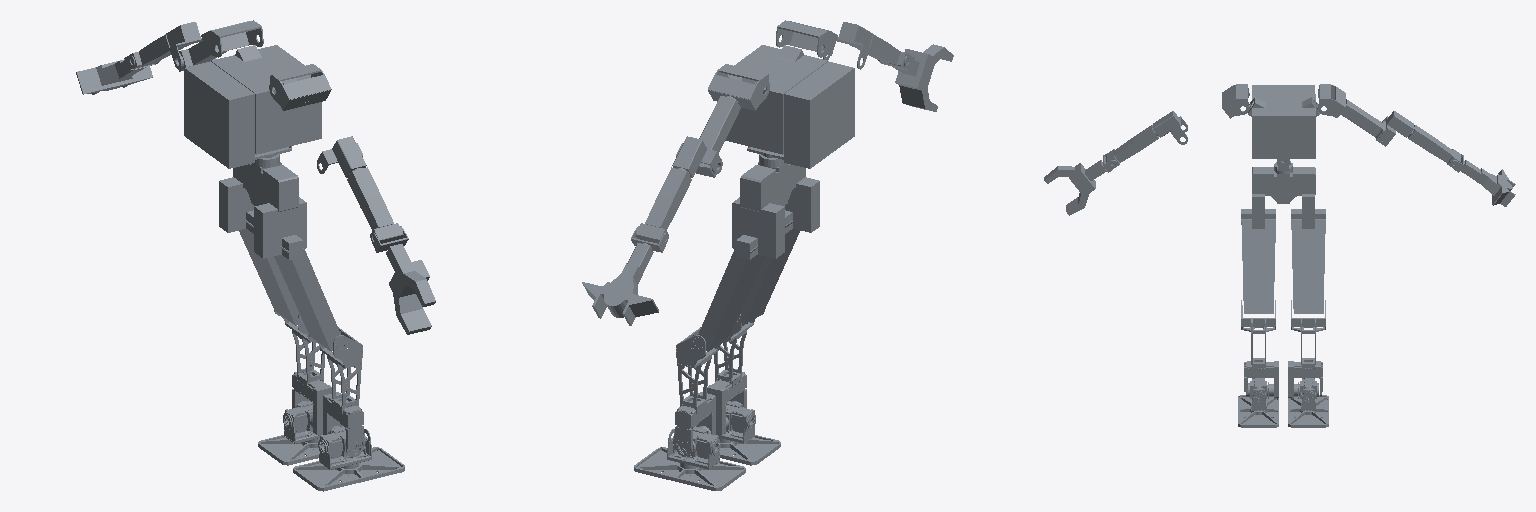
--- Render facts (derived) ---
The picture shows the robot from 3 angles, left to right: view 1: azimuth 30°, elevation 25°; view 2: azimuth 150°, elevation 25°; view 3: azimuth 270°, elevation 25°; orthographic projection.
Robot: dyros_jet_robot — 29 links, 28 joints (28 revolute); root link base_link; default pose: all joints at 0 but 2 set to mid-range because 0 is outside their limits (L_ShoulderRoll = -1.15, R_ShoulderRoll = 1.15).
Links seen in each view (by area): view 1: WaistYaw_Link, R_KneePitch_Link, R_AnkleRoll_Link, R_HipPitch_Link, R_HandYaw_Link, base_link, L_KneePitch_Link, R_HipYaw_Link, R_ShoulderRoll_Link, R_WristYaw_Link, L_HipPitch_Link, L_HandYaw_Link (+9 smaller); view 2: WaistYaw_Link, L_KneePitch_Link, L_AnkleRoll_Link, L_HipPitch_Link, L_HandYaw_Link, base_link, R_KneePitch_Link, L_HipYaw_Link, R_HandYaw_Link, L_WristYaw_Link, L_ShoulderRoll_Link, R_HipPitch_Link (+9 smaller); view 3: WaistYaw_Link, L_HipPitch_Link, R_HipPitch_Link, base_link, R_KneePitch_Link, L_KneePitch_Link, R_HandYaw_Link, R_AnkleRoll_Link, L_AnkleRoll_Link, L_HandYaw_Link, L_WristYaw_Link, R_WristYaw_Link (+5 smaller).
Boxes of the visible links, box(x1,y1,x2,y2) form: WaistYaw_Link: box(184, 45, 321, 168); R_KneePitch_Link: box(309, 327, 363, 456); R_AnkleRoll_Link: box(293, 429, 404, 491); R_HipPitch_Link: box(274, 246, 340, 351); R_HandYaw_Link: box(386, 244, 435, 334); base_link: box(233, 154, 298, 211); L_KneePitch_Link: box(274, 310, 331, 435); R_HipYaw_Link: box(254, 197, 306, 258); R_ShoulderRoll_Link: box(269, 64, 331, 110); R_WristYaw_Link: box(347, 167, 403, 243); L_HipPitch_Link: box(239, 220, 298, 325); L_HandYaw_Link: box(76, 59, 152, 94); WaistYaw_Link: box(725, 45, 854, 168); L_KneePitch_Link: box(675, 327, 729, 456); L_AnkleRoll_Link: box(634, 429, 745, 490); L_HipPitch_Link: box(698, 246, 764, 351); L_HandYaw_Link: box(582, 243, 658, 325); base_link: box(740, 154, 805, 211); R_KneePitch_Link: box(707, 311, 764, 435); L_HipYaw_Link: box(732, 197, 784, 258); R_HandYaw_Link: box(893, 44, 953, 111); L_WristYaw_Link: box(636, 167, 691, 243); L_ShoulderRoll_Link: box(708, 64, 769, 110); R_HipPitch_Link: box(740, 221, 800, 325); WaistYaw_Link: box(1248, 85, 1319, 164); L_HipPitch_Link: box(1291, 219, 1325, 313); R_HipPitch_Link: box(1241, 219, 1275, 313); base_link: box(1252, 162, 1315, 203); R_KneePitch_Link: box(1241, 300, 1278, 398); L_KneePitch_Link: box(1288, 300, 1325, 398); R_HandYaw_Link: box(1044, 160, 1106, 215); R_AnkleRoll_Link: box(1238, 392, 1278, 427); L_AnkleRoll_Link: box(1288, 392, 1328, 427); L_HandYaw_Link: box(1461, 160, 1515, 206); L_WristYaw_Link: box(1408, 125, 1460, 166); R_WristYaw_Link: box(1106, 125, 1158, 165).
Size in the robot's own frame: 0.5785 by 1.99 by 1.39 metres.
Meshes: 25 distinct files referenced, 26 mesh visuals loaded (22 binary STL); not drawn: 3 (reference not matched to a file when rendering).

URDF robot description (dyros_jet_robot):
<robot name="dyros_jet_robot">
  <link name="base_link">
    <inertial>
      <origin xyz="0 0 0.08027" rpy="0 0 0" />
      <mass value="3.90994" />
      <inertia
        ixx="0.02724195938"
        ixy="0"
        ixz="0"
        iyy="0.00634115870"
        iyz="0"
        izz="0.02399190431" />
    </inertial>
    <visual>
      <origin
        xyz="0 0 0"
        rpy="0 0 0" />
      <geometry>
        <mesh filename="package://dyros_jet_description/meshes/base_link.stl" />
      </geometry>
      <material
        name="">
        <color rgba="0.59216 0.61961 0.65098 1" />
      </material>
    </visual>
    <collision>
      <origin
        xyz="0 0 0"
        rpy="0 0 0" />
      <geometry>
        <mesh
          filename="package://dyros_jet_description/meshes/base_link.stl" />
      </geometry> 
    </collision>
  </link>
  <link name="L_HipYaw_Link">
    <inertial>
      <origin
        xyz="-0.02955 0 0.06943"
        rpy="0 0 0" />
      <mass value="1.54216" />
      <inertia
        ixx="0.00412070145"
        ixy="0"
        ixz="0.00089593414"
        iyy="0.00664372362"
        iyz="0"
        izz="0.00338413515" />
    </inertial>
    <visual>
      <origin
        xyz="0 0 0"
        rpy="0 0 0" />
      <geometry>
        <mesh
          filename="package://dyros_jet_description/meshes/hip_yaw.stl" />
      </geometry>
      <material
        name="">
        <color
          rgba="0.59216 0.61961 0.65098 1" />
      </material>
    </visual>
    <collision>
      <origin
        xyz="0 0 0"
        rpy="0 0 0" />
      <geometry>
        <mesh
          filename="package://dyros_jet_description/meshes/hip_yaw.stl" />
      </geometry>
    </collision>
  </link>
  <joint
    name="L_HipYaw"
    type="revolute">
    <origin
      xyz="0 0.105 -0.11190"
      rpy="0 0 0" />
    <parent
      link="base_link" />
    <child
      link="L_HipYaw_Link" />
    <axis
      xyz="0 0 -1" />
    <limit
      effort="30"
      velocity="1" lower="-3.14" upper="3.14" />
  </joint>
  <link
    name="L_HipRoll_Link">
    <inertial>
      <origin
        xyz="0.00513 -0.00119 0"
        rpy="0 0 0" />
      <mass
        value="1.16907" />
      <inertia
        ixx="0.00180677428"
        ixy="0.00000973989"
        ixz="0"
        iyy="0.00087972680"
        iyz="0"
        izz="0.00199196267" />
    </inertial>
    <visual>
      <origin
        xyz="0 0 0"
        rpy="0 0 0" />
      <geometry>
        <mesh
          filename="package://dyros_jet_description/meshes/hip_roll.stl" />
      </geometry>
      <material
        name="">
        <color
          rgba="0.59216 0.61961 0.65098 1" />
      </material>
    </visual>
    <collision>
      <origin
        xyz="0 0 0"
        rpy="0 0 0" />
      <geometry>
        <mesh
          filename="package://dyros_jet_description/meshes/hip_roll.stl" />
      </geometry>
    </collision>
  </link>
  <joint
    name="L_HipRoll"
    type="revolute">
    <origin
      xyz="0 0 0"
      rpy="0 0 0" />
    <parent
      link="L_HipYaw_Link" />
    <child
      link="L_HipRoll_Link" />
    <axis
      xyz="1 0 0" />
    <limit
      effort="30"
      velocity="1" lower="-3.14" upper="3.14" />
  </joint>
  <link
    name="L_HipPitch_Link">
    <inertial>
      <origin
        xyz="0.12203 0.00306 -0.23316"
        rpy="0 0 0" />
      <mass
        value="3.28269" />
      <inertia
        ixx="0.04026422334"
        ixy="-0.00122469549"
        ixz="-0.01390323874"
        iyy="0.04329246922"
        iyz="0.00234011199"
        izz="0.01768138410" />
    </inertial>
    <visual>
      <origin
        xyz="0 0 0"
        rpy="0 0 0" />
      <geometry>
        <mesh
          filename="package://dyros_jet_description/meshes/hip_pitch.stl" />
      </geometry>
      <material
        name="">
        <color
          rgba="0.59216 0.61961 0.65098 1" />
      </material>
    </visual>
    <collision>
      <origin
        xyz="0 0 0"
        rpy="0 0 0" />
      <geometry>
        <mesh
          filename="package://dyros_jet_description/meshes/hip_pitch.stl" />
      </geometry>
    </collision>
  </link>
  <joint
    name="L_HipPitch"
    type="revolute">
    <origin
      xyz="0 0 0"
      rpy="0 0 0" />
    <parent
      link="L_HipRoll_Link" />
    <child
      link="L_HipPitch_Link" />
    <axis
      xyz="0 1 0" />
    <limit
      effort="30"
      velocity="1" lower="-3.14" upper="3.14" />
  </joint>
  <link
    name="L_KneePitch_Link">
    <inertial>
      <origin
        xyz="0.05276 -0.01856 -0.22635"
        rpy="0 0 0" />
      <mass
        value="2.04524" />
      <inertia
        ixx="0.03535528788"
        ixy="-0.00087858758"
        ixz="-0.00310465960"
        iyy="0.03128221988"
        iyz="0.00677319603"
        izz="0.00677705818" />
    </inertial>
    <visual>
      <origin
        xyz="0 0 0"
        rpy="0 0 0" />
      <geometry>
        <mesh
          filename="package://dyros_jet_description/meshes/left_shin.stl" />
      </geometry>
      <material
        name="">
        <color
          rgba="0.59216 0.61961 0.65098 1" />
      </material>
    </visual>
    <collision>
      <origin
        xyz="0 0 0"
        rpy="0 0 0" />
      <geometry>
        <mesh
          filename="package://dyros_jet_description/meshes/left_shin.stl" />
      </geometry>
    </collision>
  </link>
  <joint
    name="L_KneePitch"
    type="revolute">
    <origin
      xyz="0.1515 0 -0.339"
      rpy="0 0 0" />
    <parent
      link="L_HipPitch_Link" />
    <child
      link="L_KneePitch_Link" />
    <axis
      xyz="0 1 0" />
    <limit
      effort="30"
      velocity="1" lower="-3.14" upper="3.14" />
  </joint>
  <link
    name="L_AnklePitch_Link">
    <inertial>
      <origin
        xyz="-0.01035 0.00568 0"
        rpy="0 0 0" />
      <mass
        value="1.18450" />
      <inertia
        ixx="0.00091081511"
        ixy="0.00006964019"
        ixz="0"
        iyy="0.00185149782"
        iyz="0"
        izz="0.00206162879" />
    </inertial>
    <visual>
      <origin
        xyz="0 0 0"
        rpy="0 0 0" />
      <geometry>
        <mesh
          filename="package://dyros_jet_description/meshes/left_ankle_pitch.stl" />
      </geometry>
      <material
        name="">
        <color
          rgba="0.59216 0.61961 0.65098 1" />
      </material>
    </visual>
    <collision>
      <origin
        xyz="0 0 0"
        rpy="0 0 0" />
      <geometry>
        <mesh
          filename="package://dyros_jet_description/meshes/left_ankle_pitch.stl" />
      </geometry>
    </collision>
  </link>
  <joint
    name="L_AnklePitch"
    type="revolute">
    <origin
      xyz="0.06 0 -0.368"
      rpy="0 0 0" />
    <parent
      link="L_KneePitch_Link" />
    <child
      link="L_AnklePitch_Link" />
    <axis
      xyz="0 1 0" />
    <limit
      effort="30"
      velocity="1" lower="-3.14" upper="3.14" />
  </joint>
  <link
    name="L_AnkleRoll_Link">
    <inertial>
      <origin
        xyz="-0.00989 0 0.07224"
        rpy="0 0 0" />
      <mass
        value="1.42541" />
      <inertia
        ixx="0.00349247764"
        ixy="0"
        ixz="-0.00086859128"
        iyy="0.00816767704"
        iyz="0"
        izz="0.00895530984" />
    </inertial>
    <visual>
      <origin
        xyz="0 0 0"
        rpy="0 0 0" />
      <geometry>
        <mesh
          filename="package://dyros_jet_description/meshes/ankle_roll.stl" />
      </geometry>
      <material
        name="">
        <color
          rgba="0.59216 0.61961 0.65098 1" />
      </material>
    </visual>
    <collision>
      <origin
        xyz="0 0 0"
        rpy="0 0 0" />
      <geometry>
        <mesh
          filename="package://dyros_jet_description/meshes/ankle_roll.stl" />
      </geometry>
    </collision>
  </link>
  <joint
    name="L_AnkleRoll"
    type="revolute">
    <origin
      xyz="0 0 0"
      rpy="0 0 0" />
    <parent
      link="L_AnklePitch_Link" />
    <child
      link="L_AnkleRoll_Link" />
    <axis
      xyz="1 0 0" />
    <limit
      effort="30"
      velocity="1" lower="-3.14" upper="3.14" />
  </joint>
  <link
    name="R_HipYaw_Link">
    <inertial>
      <origin
        xyz="-0.02955 0 0.06943"
        rpy="0 0 0" />
      <mass
        value="1.54216" />
      <inertia
        ixx="0.00412070145"
        ixy="0"
        ixz="0.00089593414"
        iyy="0.00664372362"
        iyz="0"
        izz="0.00338413515" />
    </inertial>
    <visual>
      <origin
        xyz="0 0 0"
        rpy="0 0 0" />
      <geometry>
        <mesh
          filename="package://dyros_jet_description/meshes/hip_yaw.stl" />
      </geometry>
      <material
        name="">
        <color
          rgba="0.59216 0.61961 0.65098 1" />
      </material>
    </visual>
    <collision>
      <origin
        xyz="0 0 0"
        rpy="0 0 0" />
      <geometry>
        <mesh
          filename="package://dyros_jet_description/meshes/hip_yaw.stl" />
      </geometry>
    </collision>
  </link>
  <joint
    name="R_HipYaw"
    type="revolute">
    <origin
      xyz="0 -0.105 -0.11190"
      rpy="0 0 0" />
    <parent
      link="base_link" />
    <child
      link="R_HipYaw_Link" />
    <axis
      xyz="0 0 -1" />
    <limit
      effort="30"
      velocity="1" lower="-3.14" upper="3.14" />
  </joint>
  <link
    name="R_HipRoll_Link">
    <inertial>
      <origin
        xyz="0.00513 0.00119 0"
        rpy="0 0 0" />
      <mass
        value="1.16907" />
      <inertia
        ixx="0.00180677428"
        ixy="-0.00000973989"
        ixz="0"
        iyy="0.00087972680"
        iyz="0"
        izz="0.00199196267" />
    </inertial>
    <visual>
      <origin
        xyz="0 0 0"
        rpy="0 0 0" />
      <geometry>
        <mesh
          filename="package://dyros_jet_description/meshes/hip_roll.stl" />
      </geometry>
      <material
        name="">
        <color
          rgba="0.59216 0.61961 0.65098 1" />
      </material>
    </visual>
    <collision>
      <origin
        xyz="0 0 0"
        rpy="0 0 0" />
      <geometry>
        <mesh
          filename="package://dyros_jet_description/meshes/hip_roll.stl" />
      </geometry>
    </collision>
  </link>
  <joint
    name="R_HipRoll"
    type="revolute">
    <origin
      xyz="0 0 0"
      rpy="0 0 0" />
    <parent
      link="R_HipYaw_Link" />
    <child
      link="R_HipRoll_Link" />
    <axis
      xyz="1 0 0" />
    <limit
      effort="30"
      velocity="1" lower="-3.14" upper="3.14" />
  </joint>
  <link
    name="R_HipPitch_Link">
    <inertial>
      <origin
        xyz="0.11203 -0.00306 -0.23316"
        rpy="0 0 0" />
      <mass
        value="3.28269" />
      <inertia
        ixx="0.04026423334"
        ixy="0.00122469549"
        ixz="-0.01390323874"
        iyy="0.04329246922"
        iyz="-0.00233982906"
        izz="0.01768138410" />
    </inertial>
    <visual>
      <origin
        xyz="0 0 0"
        rpy="0 0 0" />
      <geometry>
        <mesh
          filename="package://dyros_jet_description/meshes/hip_pitch.stl" />
      </geometry>
      <material
        name="">
        <color
          rgba="0.59216 0.61961 0.65098 1" />
      </material>
    </visual>
    <collision>
      <origin
        xyz="0 0 0"
        rpy="0 0 0" />
      <geometry>
        <mesh
          filename="package://dyros_jet_description/meshes/hip_pitch.stl" />
      </geometry>
    </collision>
  </link>
  <joint
    name="R_HipPitch"
    type="revolute">
    <origin
      xyz="0 0 0"
      rpy="0 0 0" />
    <parent
      link="R_HipRoll_Link" />
    <child
      link="R_HipPitch_Link" />
    <axis
      xyz="0 -1 0" />
    <limit
      effort="30"
      velocity="1" lower="-3.14" upper="3.14" />
  </joint>
  <link
    name="R_KneePitch_Link">
    <inertial>
      <origin
        xyz="0.05276 0.01856 -0.22635"
        rpy="0 0 0" />
      <mass
        value="2.04524" />
      <inertia
        ixx="0.03537964069"
        ixy="0.00087727444"
        ixz="-0.00310527519"
        iyy="0.03129299830"
        iyz="-0.00676289825"
        izz="0.00679475749" />
    </inertial>
    <visual>
      <origin
        xyz="0 0 0"
        rpy="0 0 0" />
      <geometry>
        <mesh
          filename="package://dyros_jet_description/meshes/right_shin.stl" />
      </geometry>
      <material
        name="">
        <color
          rgba="0.59216 0.61961 0.65098 1" />
      </material>
    </visual>
    <collision>
      <origin
        xyz="0 0 0"
        rpy="0 0 0" />
      <geometry>
        <mesh
          filename="package://dyros_jet_description/meshes/right_shin.stl" />
      </geometry>
    </collision>
  </link>
  <joint
    name="R_KneePitch"
    type="revolute">
    <origin
      xyz="0.1515 0 -0.339"
      rpy="0 0 0" />
    <parent
      link="R_HipPitch_Link" />
    <child
      link="R_KneePitch_Link" />
    <axis
      xyz="0 -1 0" />
    <limit
      effort="30"
      velocity="1" lower="-3.14" upper="3.14" />
  </joint>
  <link
    name="R_AnklePitch_Link">
    <inertial>
      <origin
        xyz="-0.01035 0.00568 0"
        rpy="0 0 0" />
      <mass
        value="1.18450" />
      <inertia
        ixx="0.00091077271"
        ixy="-0.00006959439"
        ixz="0"
        iyy="0.00185147541"
        iyz="0"
        izz="0.00206164878" />
    </inertial>
    <visual>
      <origin
        xyz="0 0 0"
        rpy="0 0 0" />
      <geometry>
        <mesh
          filename="package://dyros_jet_description/meshes/right_ankle_pitch.stl" />
      </geometry>
      <material
        name="">
        <color
          rgba="0.59216 0.61961 0.65098 1" />
      </material>
    </visual>
    <collision>
      <origin
        xyz="0 0 0"
        rpy="0 0 0" />
      <geometry>
        <mesh
          filename="package://dyros_jet_description/meshes/right_ankle_pitch.stl" />
      </geometry>
    </collision>
  </link>
  <joint
    name="R_AnklePitch"
    type="revolute">
    <origin
      xyz="0.06 0 -0.368"
      rpy="0 0 0" />
    <parent
      link="R_KneePitch_Link" />
    <child
      link="R_AnklePitch_Link" />
    <axis
      xyz="0 -1 0" />
    <limit
      effort="30"
      velocity="1" lower="-3.14" upper="3.14" />
  </joint>
  <link
    name="R_AnkleRoll_Link">
    <inertial>
      <origin
        xyz="-0.00989 0 0.07224"
        rpy="0 0 0" />
      <mass
        value="1.42541" />
      <inertia
        ixx="0.00350322410"
        ixy="0"
        ixz="-0.00090168812"
        iyy="0.00816767704"
        iyz="0"
        izz="0.00894456337" />
    </inertial>
    <visual>
      <origin
        xyz="0 0 0"
        rpy="0 0 0" />
      <geometry>
        <mesh
          filename="package://dyros_jet_description/meshes/ankle_roll.stl" />
      </geometry>
      <material
        name="">
        <color
          rgba="0.59216 0.61961 0.65098 1" />
      </material>
    </visual>
    <collision>
      <origin
        xyz="0 0 0"
        rpy="0 0 0" />
      <geometry>
        <mesh
          filename="package://dyros_jet_description/meshes/ankle_roll.stl" />
      </geometry>
    </collision>
  </link>
  <joint
    name="R_AnkleRoll"
    type="revolute">
    <origin
      xyz="0 0 0"
      rpy="0 0 0" />
    <parent
      link="R_AnklePitch_Link" />
    <child
      link="R_AnkleRoll_Link" />
    <axis
      xyz="1 0 0" />
    <limit
      effort="30"
      velocity="1" lower="-3.14" upper="3.14" />
  </joint>
  <link
    name="WaistPitch_Link">
    <inertial>
      <origin
        xyz="0 0 0.14577"
        rpy="0 0 0" />
      <mass
        value="0.18235" />
      <inertia
        ixx="0.003844"
        ixy="0"
        ixz="0"
        iyy="0.004215"
        iyz="0"
        izz="0.000457" />
    </inertial>
    <visual>
      <origin
        xyz="0 0 0"
        rpy="0 0 0" />
      <geometry>
        <mesh
          filename="package://dyros_jet_description/meshes/WaistPitch_Link.stl" />
      </geometry>
      <material
        name="">
        <color
          rgba="0.59216 0.61961 0.65098 1" />
      </material>
    </visual>
    <collision>
      <origin
        xyz="0 0 0"
        rpy="0 0 0" />
      <geometry>
        <mesh
          filename="package://dyros_jet_description/meshes/WaistPitch_Link.stl" />
      </geometry>
    </collision>
  </link>
  <joint
    name="WaistPitch"
    type="revolute">
    <origin
      xyz="0 0 0"
      rpy="0 0 0" />
    <parent
      link="base_link" />
    <child
      link="WaistPitch_Link" />
    <axis
      xyz="0 0 1" />
    <limit
      effort="30"
      velocity="1" lower="-3.14" upper="3.14" />
  </joint>
  <link
    name="WaistYaw_Link">
    <inertial>
      <origin
        xyz="0.0038 -0.00415 0.11424"
        rpy="0 0 0" />
      <mass
        value="14.09938" />
      <inertia
        ixx="0.262766"
        ixy="0"
        ixz="0"
        iyy="0.242504"
        iyz="0"
        izz="0.109346" />
    </inertial>
    <visual>
      <origin
        xyz="0 0 0"
        rpy="0 0 0" />
      <geometry>
        <mesh
          filename="package://dyros_jet_description/meshes/WaistYaw_Link.stl" />
      </geometry>
      <material
        name="">
        <color
          rgba="0.59216 0.61961 0.65098 1" />
      </material>
    </visual>
    <visual>
      <origin
        xyz="-0.16 0 0.11"
        rpy="0 0 0" />
      <geometry>
        <box size= "0.09 0.265 0.225"/>
      </geometry>
      <material
        name="">
        <color
          rgba="0.59216 0.61961 0.65098 1" />
      </material>
    </visual>
    <collision>
      <origin
        xyz="0 0 0"
        rpy="0 0 0" />
      <geometry>
        <mesh
          filename="package://dyros_jet_description/meshes/WaistYaw_Link.stl" />
      </geometry>
    </collision>
    <collision>
      <origin
        xyz="-0.16 0 0.11"
        rpy="0 0 0" />
      <geometry>
        <box size= "0.09 0.265 0.225"/>
      </geometry>
    </collision>
  </link>
  <joint
    name="WaistYaw"
    type="revolute">
    <origin
      xyz="0 0 0.186"
      rpy="0 0 0" />
    <parent
      link="WaistPitch_Link" />
    <child
      link="WaistYaw_Link" />
    <axis
      xyz="-1 0 0" />
    <limit
      effort="30"
      velocity="1" lower="-3.14" upper="3.14" />
  </joint>
  <link
    name="L_ShoulderPitch_Link">
    <inertial>
      <origin
        xyz="-0.00159 -0.00092 0"
        rpy="0 0 0" />
      <mass
        value="0.92796" />
      <inertia
        ixx="0.000473"
        ixy="0"
        ixz="0"
        iyy="0.0015422"
        iyz="0"
        izz="0.00156" />
    </inertial>
    <visual>
      <origin
        xyz="0 0 0"
        rpy="0 0 0" />
      <geometry>
        <mesh
          filename="package://dyros_jet_description/meshes/L_ShoulderPitch_Link.stl" />
      </geometry>
      <material
        name="">
        <color
          rgba="0.59216 0.61961 0.65098 1" />
      </material>
    </visual>
    <collision>
      <origin
        xyz="0 0 0"
        rpy="0 0 0" />
      <geometry>
        <mesh
          filename="package://dyros_jet_description/meshes/L_ShoulderPitch_Link.stl" />
      </geometry>
    </collision>
  </link>
  <joint
    name="L_ShoulderPitch"
    type="revolute">
    <origin
      xyz="0 0.17 0.239"
      rpy="0.5236 0 -4.6787E-15" />
    <parent
      link="WaistYaw_Link" />
    <child
      link="L_ShoulderPitch_Link" />
    <axis
      xyz="0 1 0" />
    <limit
      effort="30"
      velocity="1" lower="-3.14" upper="3.14" />
  </joint>
  <link
    name="L_ShoulderRoll_Link">
    <inertial>
      <origin
        xyz="0 0.02958 -0.03197"
        rpy="0 0 0" />
      <mass
        value="0.11240" />
      <inertia
        ixx="0.001421"
        ixy="0"
        ixz="0"
        iyy="0.001585"
        iyz="0.000389"
        izz="0.001839" />
    </inertial>
    <visual>
      <origin
        xyz="0 0 0"
        rpy="0 0 0" />
      <geometry>
        <mesh
          filename="package://dyros_jet_description/meshes/L_ShoulderRoll_Link.stl" />
      </geometry>
      <material
        name="">
        <color
          rgba="0.59216 0.61961 0.65098 1" />
      </material>
    </visual>
    <collision>
      <origin
        xyz="0 0 0"
        rpy="0 0 0" />
      <geometry>
        <mesh
          filename="package://dyros_jet_description/meshes/L_ShoulderRoll_Link.stl" />
      </geometry>
    </collision>
  </link>
  <joint
    name="L_ShoulderRoll"
    type="revolute">
    <origin
      xyz="0 0 0"
      rpy="0 0 -7.8886E-31" />
    <parent
      link="L_ShoulderPitch_Link" />
    <child
      link="L_ShoulderRoll_Link" />
    <axis
      xyz="1 0 0" />
    <limit
      effort="30"
      velocity="1" lower="-2.1" upper="-0.2" />
  </joint>
  <link
    name="L_ShoulderYaw_Link">
    <inertial>
      <origin
        xyz="0.00022 0.02910 -0.20695"
        rpy="0 0 0" />
      <mass
        value="1.75149" />
      <inertia
        ixx="0.090419"
        ixy="-0.00024"
        ixz="0"
        iyy="0.00126"
        iyz="0"
        izz="0.090836" />
    </inertial>
    <visual>
      <origin
        xyz="0 0 0"
        rpy="0 0 0" />
      <geometry>
        <mesh
          filename="package://dyros_jet_description/meshes/L_ShoulderYaw_Link.stl" />
      </geometry>
      <material
        name="">
        <color
          rgba="0.59216 0.61961 0.65098 1" />
      </material>
    </visual>
    <collision>
      <origin
        xyz="0 0 0"
        rpy="0 0 0" />
      <geometry>
        <mesh
          filename="package://dyros_jet_description/meshes/L_ShoulderYaw_Link.stl" />
      </geometry>
    </collision>
  </link>
  <joint
    name="L_ShoulderYaw"
    type="revolute">
    <origin
      xyz="0 0 0.028856"
      rpy="1.6653E-15 2.6672E-15 -1.1833E-29" />
    <parent
      link="L_ShoulderRoll_Link" />
    <child
      link="L_ShoulderYaw_Link" />
    <axis
      xyz="0 1 0" />
    <limit
      effort="30"
      velocity="1" lower="-3.14" upper="3.14" />
  </joint>
  <link
    name="L_ElbowRoll_Link">
    <inertial>
      <origin
        xyz="0.00013 0.02766 0.06984"
        rpy="0 0 0" />
      <mass
        value="0.83342" />
      <inertia
        ixx="0.00592"
        ixy="-3E-06"
        ixz="-8E-06"
        iyy="0.004878"
        iyz="0.001689"
        izz="0.001797" />
    </inertial>
    <visual>
      <origin
        xyz="0 0 0"
        rpy="0 0 0" />
      <geometry>
        <mesh
          filename="package://dyros_jet_description/meshes/L_ElbowRoll_Link.stl" />
      </geometry>
      <material
        name="">
        <color
          rgba="0.59216 0.61961 0.65098 1" />
      </material>
    </visual>
    <collision>
      <origin
        xyz="0 0 0"
        rpy="0 0 0" />
      <geometry>
        <mesh
          filename="package://dyros_jet_description/meshes/L_ElbowRoll_Link.stl" />
      </geometry>
    </collision>
  </link>
  <joint
    name="L_ElbowRoll"
    type="revolute">
    <origin
      xyz="0 0.294 0"
      rpy="-5.2736E-15 2.2506E-15 4.0518E-15" />
    <parent
      link="L_ShoulderYaw_Link" />
    <child
      link="L_ElbowRoll_Link" />
    <axis
      xyz="1 0 0" />
    <limit
      effort="30"
      velocity="1" lower="-2.8" upper="0.3" />
  </joint>
  <link
    name="L_WristYaw_Link">
    <inertial>
      <origin
        xyz="-0.00052833 0.21354 0"
        rpy="0 0 0" />
      <mass
        value="0.52391" />
      <inertia
        ixx="0.026688"
        ixy="-7.8E-05"
        ixz="0"
        iyy="0.000269"
        iyz="0"
        izz="0.026765" />
    </inertial>
    <visual>
      <origin
        xyz="0 0 0"
        rpy="0 0 0" />
      <geometry>
        <mesh
          filename="package://dyros_jet_description/meshes/L_WristYaw_Link.stl" />
      </geometry>
      <material
        name="">
        <color
          rgba="0.59216 0.61961 0.65098 1" />
      </material>
    </visual>
    <collision>
      <origin
        xyz="0 0 0"
        rpy="0 0 0" />
      <geometry>
        <mesh
          filename="package://dyros_jet_description/meshes/L_WristYaw_Link.stl" />
      </geometry>
    </collision>
  </link>
  <joint
    name="L_WristYaw"
    type="revolute">
    <origin
      xyz="0 0 0.075"
      rpy="-5.5511E-17 0 0" />
    <parent
      link="L_ElbowRoll_Link" />
    <child
      link="L_WristYaw_Link" />
    <axis
      xyz="0 1 0" />
    <limit
      effort="30"
      velocity="1" lower="-3.14" upper="3.14" />
  </joint>
  <link
    name="L_WristRoll_Link">
    <inertial>
      <origin
        xyz="0 0.029698 0"
        rpy="0 0 0" />
      <mass
        value="0.07856" />
      <inertia
        ixx="8.3E-05"
        ixy="0"
        ixz="0"
        iyy="9.0005E-05"
        iyz="0"
        izz="0.000153" />
    </inertial>
    <visual>
      <origin
        xyz="0 0 0"
        rpy="0 0 0" />
      <geometry>
        <mesh
          filename="package://dyros_jet_description/meshes/L_WristRoll_Link.stl" />
      </geometry>
      <material
        name="">
        <color
          rgba="0.59216 0.61961 0.65098 1" />
      </material>
    </visual>
    <collision>
      <origin
        xyz="0 0 0"
        rpy="0 0 0" />
      <geometry>
        <mesh
          filename="package://dyros_jet_description/meshes/L_WristRoll_Link.stl" />
      </geometry>
    </collision>
  </link>
  <joint
    name="L_WristRoll"
    type="revolute">
    <origin
      xyz="-0.00015 0.3085 0"
      rpy="3.7192E-15 -2.0473E-15 -4.2369E-15" />
    <parent
      link="L_WristYaw_Link" />
    <child
      link="L_WristRoll_Link" />
    <axis
      xyz="1 0 0" />
    <limit
      effort="30"
      velocity="1" lower="-3.14" upper="3.14" />
  </joint>
  <link
    name="L_HandYaw_Link">
    <inertial>
      <origin
        xyz="0 0.20231 0.0031654"
        rpy="0 0 0" />
      <mass
        value="1.20640" />
      <inertia
        ixx="0.05396"
        ixy="0"
        ixz="0"
        iyy="0.002601"
        iyz="0.00084"
        izz="0.055766" />
    </inertial>
    <visual>
      <origin
        xyz="0 0 0"
        rpy="0 0 0" />
      <geometry>
        <mesh
          filename="package://dyros_jet_description/meshes/L_HandYaw_Link.stl" />
      </geometry>
      <material
        name="">
        <color
          rgba="0.59216 0.61961 0.65098 1" />
      </material>
    </visual>
    <collision>
      <origin
        xyz="0 0 0"
        rpy="0 0 0" />
      <geometry>
        <mesh
          filename="package://dyros_jet_description/meshes/L_HandYaw_Link.stl" />
      </geometry>
    </collision>
  </link>
  <joint
    name="L_HandYaw"
    type="revolute">
    <origin
      xyz="0 0 0"
      rpy="5.5511E-17 0 -3.9443E-31" />
    <parent
      link="L_WristRoll_Link" />
    <child
      link="L_HandYaw_Link" />
    <axis
      xyz="0 1 0" />
    <limit
      effort="30"
      velocity="1" lower="-3.14" upper="3.14" />
  </joint>

  <link
    name="R_ShoulderPitch_Link">
    <inertial>
      <origin
        xyz="-0.00159 0.00092 0"
        rpy="0 0 0" />
      <mass
        value="0.92796" />
      <inertia
        ixx="0.000473"
        ixy="0"
        ixz="0"
        iyy="0.0015422"
        iyz="0"
        izz="0.00156" />
    </inertial>
    <visual>
      <origin
        xyz="0 0 0"
        rpy="0 0 0" />
      <geometry>
        <mesh
          filename="package://dyros_jet_description/meshes/R_ShoulderPitch_Link.stl" />
      </geometry>
      <material
        name="">
        <color
          rgba="0.59216 0.61961 0.65098 1" />
      </material>
    </visual>
    <collision>
      <origin
        xyz="0 0 0"
        rpy="0 0 0" />
      <geometry>
        <mesh
          filename="package://dyros_jet_description/meshes/R_ShoulderPitch_Link.stl" />
      </geometry>
    </collision>
  </link>
  <joint
    name="R_ShoulderPitch"
    type="revolute">
    <origin
      xyz="0 -0.17 0.239"
      rpy="-0.5236 1.6324E-15 3.0939E-15" />
    <parent
      link="WaistYaw_Link" />
    <child
      link="R_ShoulderPitch_Link" />
    <axis
      xyz="0 -1 0" />
    <limit
      effort="30"
      velocity="1" lower="-3.14" upper="3.14" />
  </joint>
  <link
    name="R_ShoulderRoll_Link">
    <inertial>
      <origin
        xyz="0 -0.02958 -0.03197"
        rpy="0 0 0" />
      <mass
        value="0.11240" />
      <inertia
        ixx="0.001421"
        ixy="0"
        ixz="0"
        iyy="0.001585"
        iyz="-0.000389"
        izz="0.001839" />
    </inertial>
    <visual>
      <origin
        xyz="0 0 0"
        rpy="0 0 0" />
      <geometry>
        <mesh
          filename="package://dyros_jet_description/meshes/R_ShoulderRoll_Link.stl" />
      </geometry>
      <material
        name="">
        <color
          rgba="0.59216 0.61961 0.65098 1" />
      </material>
    </visual>
    <collision>
      <origin
        xyz="0 0 0"
        rpy="0 0 0" />
      <geometry>
        <mesh
          filename="package://dyros_jet_description/meshes/R_ShoulderRoll_Link.stl" />
      </geometry>
    </collision>
  </link>
  <joint
    name="R_ShoulderRoll"
    type="revolute">
    <origin
      xyz="0 0 0"
      rpy="0 0 -1.9722E-31" />
    <parent
      link="R_ShoulderPitch_Link" />
    <child
      link="R_ShoulderRoll_Link" />
    <axis
      xyz="1 0 0" />
    <limit
      effort="30"
      velocity="1" lower="0.2" upper="2.1" />
  </joint>
  <link
    name="R_ShoulderYaw_Link">
    <inertial>
      <origin
        xyz="0.00022 -0.2910 -0.20695"
        rpy="0 0 0" />
      <mass
        value="1.75149" />
      <inertia
        ixx="0.090419"
        ixy="0.00024"
        ixz="0"
        iyy="0.00126"
        iyz="0"
        izz="0.090836" />
    </inertial>
    <visual>
      <origin
        xyz="0 0 0"
        rpy="0 0 0" />
      <geometry>
        <mesh
          filename="package://dyros_jet_description/meshes/R_ShoulderYaw_Link.stl" />
      </geometry>
      <material
        name="">
        <color
          rgba="0.59216 0.61961 0.65098 1" />
      </material>
    </visual>
    <collision>
      <origin
        xyz="0 0 0"
        rpy="0 0 0" />
      <geometry>
        <mesh
          filename="package://dyros_jet_description/meshes/R_ShoulderYaw_Link.stl" />
      </geometry>
    </collision>
  </link>
  <joint
    name="R_ShoulderYaw"
    type="revolute">
    <origin
      xyz="0 0 0.028856"
      rpy="3.3862E-15 1.3323E-16 -6.4991E-15" />
    <parent
      link="R_ShoulderRoll_Link" />
    <child
      link="R_ShoulderYaw_Link" />
    <axis
      xyz="0 -1 0" />
    <limit
      effort="30"
      velocity="1" lower="-3.14" upper="3.14" />
  </joint>
  <link
    name="R_ElbowRoll_Link">
    <inertial>
      <origin
        xyz="0.00013 -0.02766 0.06984"
        rpy="0 0 0" />
      <mass
        value="0.83342" />
      <inertia
        ixx="0.00592"
        ixy="3E-06"
        ixz="-8E-06"
        iyy="0.004878"
        iyz="-0.001689"
        izz="0.001797" />
    </inertial>
    <visual>
      <origin
        xyz="0 0 0"
        rpy="0 0 0" />
      <geometry>
        <mesh
          filename="package://dyros_jet_description/meshes/R_ElbowRoll_Link.stl" />
      </geometry>
      <material
        name="">
        <color
          rgba="0.59216 0.61961 0.65098 1" />
      </material>
    </visual>
    <collision>
      <origin
        xyz="0 0 0"
        rpy="0 0 0" />
      <geometry>
        <mesh
          filename="package://dyros_jet_description/meshes/R_ElbowRoll_Link.stl" />
      </geometry>
    </collision>
  </link>
  <joint
    name="R_ElbowRoll"
    type="revolute">
    <origin
      xyz="0 -0.294 0"
      rpy="8.7708E-15 6.5224E-15 6.7691E-15" />
    <parent
      link="R_ShoulderYaw_Link" />
    <child
      link="R_ElbowRoll_Link" />
    <axis
      xyz="1 0 0" />
    <limit
      effort="30"
      velocity="1" lower="-0.3" upper="2.8" />
  </joint>
  <link
    name="R_WristYaw_Link">
    <inertial>
      <origin
        xyz="-0.00052833 -0.21354 0"
        rpy="0 0 0" />
      <mass
        value="0.52391" />
      <inertia
        ixx="0.026688"
        ixy="7.8E-05"
        ixz="0"
        iyy="0.000269"
        iyz="0"
        izz="0.026765" />
    </inertial>
    <visual>
      <origin
        xyz="0 0 0"
        rpy="0 0 0" />
      <geometry>
        <mesh
          filename="package://dyros_jet_description/meshes/R_WristYaw_Link.stl" />
      </geometry>
      <material
        name="">
        <color
          rgba="0.59216 0.61961 0.65098 1" />
      </material>
    </visual>
    <collision>
      <origin
        xyz="0 0 0"
        rpy="0 0 0" />
      <geometry>
        <mesh
          filename="package://dyros_jet_description/meshes/R_WristYaw_Link.stl" />
      </geometry>
    </collision>
  </link>
  <joint
    name="R_WristYaw"
    type="revolute">
    <origin
      xyz="0 0 0.075"
      rpy="5.5511E-17 7.8886E-31 -3.7657E-15" />
    <parent
      link="R_ElbowRoll_Link" />
    <child
      link="R_WristYaw_Link" />
    <axis
      xyz="0 -1 0" />
    <limit
      effort="30"
      velocity="1" lower="-3.14" upper="3.14" />
  </joint>
  <link
    name="R_WristRoll_Link">
    <inertial>
      <origin
        xyz="0 -0.029698 0"
        rpy="0 0 0" />
      <mass
        value="0.07856" />
      <inertia
        ixx="8.3E-05"
        ixy="0"
        ixz="0"
        iyy="9E-05"
        iyz="0"
        izz="0.000153" />
    </inertial>
    <visual>
      <origin
        xyz="0 0 0"
        rpy="0 0 0" />
      <geometry>
        <mesh
          filename="package://dyros_jet_description/meshes/R_WristRoll_Link.stl" />
      </geometry>
      <material
        name="">
        <color
          rgba="0.59216 0.61961 0.65098 1" />
      </material>
    </visual>
    <collision>
      <origin
        xyz="0 0 0"
        rpy="0 0 0" />
      <geometry>
        <mesh
          filename="package://dyros_jet_description/meshes/R_WristRoll_Link.stl" />
      </geometry>
    </collision>
  </link>
  <joint
    name="R_WristRoll"
    type="revolute">
    <origin
      xyz="-0.00015 -0.3085 0"
      rpy="-3.1641E-15 -4.6105E-15 -2.8519E-15" />
    <parent
      link="R_WristYaw_Link" />
    <child
      link="R_WristRoll_Link" />
    <axis
      xyz="1 0 0" />
    <limit
      effort="30"
      velocity="1" lower="-1.9" upper="1.9" />
  </joint>
  <link
    name="R_HandYaw_Link">
    <inertial>
      <origin
        xyz="0 -0.20231 0.0031654"
        rpy="0 0 0" />
      <mass
        value="1.20640" />
      <inertia
        ixx="0.05396"
        ixy="0"
        ixz="0"
        iyy="0.002601"
        iyz="0.00084"
        izz="0.055766" />
    </inertial>
    <visual>
      <origin
        xyz="0 0 0"
        rpy="0 0 0" />
      <geometry>
        <mesh
          filename="package://dyros_jet_description/meshes/R_HandYaw_new.stl" />
      </geometry>
      <material
        name="">
        <color
          rgba="0.59216 0.61961 0.65098 1" />
      </material>
    </visual>
    <collision>
      <origin
        xyz="0 0 0"
        rpy="0 0 0" />
      <geometry>
        <mesh
          filename="package://dyros_jet_description/meshes/R_HandYaw_new.stl" />
      </geometry>
    </collision>
  </link>
  <joint
    name="R_HandYaw"
    type="revolute">
    <origin
      xyz="0 0 0"
      rpy="0 -1.7256E-31 3.4513E-31" />
    <parent
      link="R_WristRoll_Link" />
    <child
      link="R_HandYaw_Link" />
    <axis
      xyz="0 -1 0" />
    <limit
      effort="30"
      velocity="1" lower="-3.14" upper="3.14" />
  </joint>
</robot>
